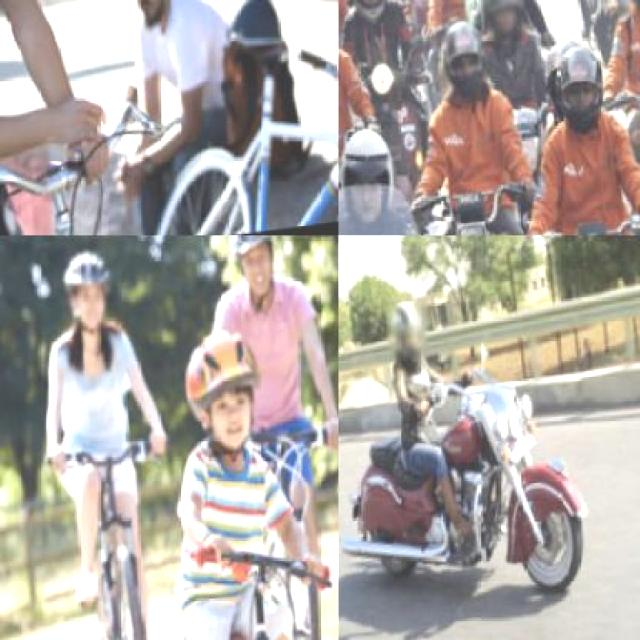With Helmet: (179, 322, 267, 466), (338, 126, 400, 234), (428, 11, 489, 114), (548, 48, 607, 146), (56, 248, 118, 340), (224, 235, 282, 314), (383, 303, 428, 365), (480, 0, 528, 51), (338, 0, 396, 35)
